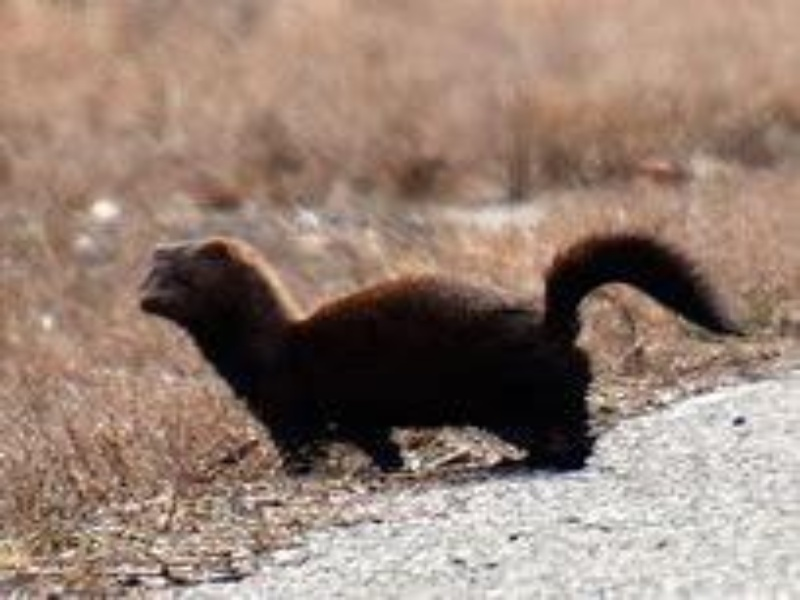minkish: (136, 235, 755, 477)
